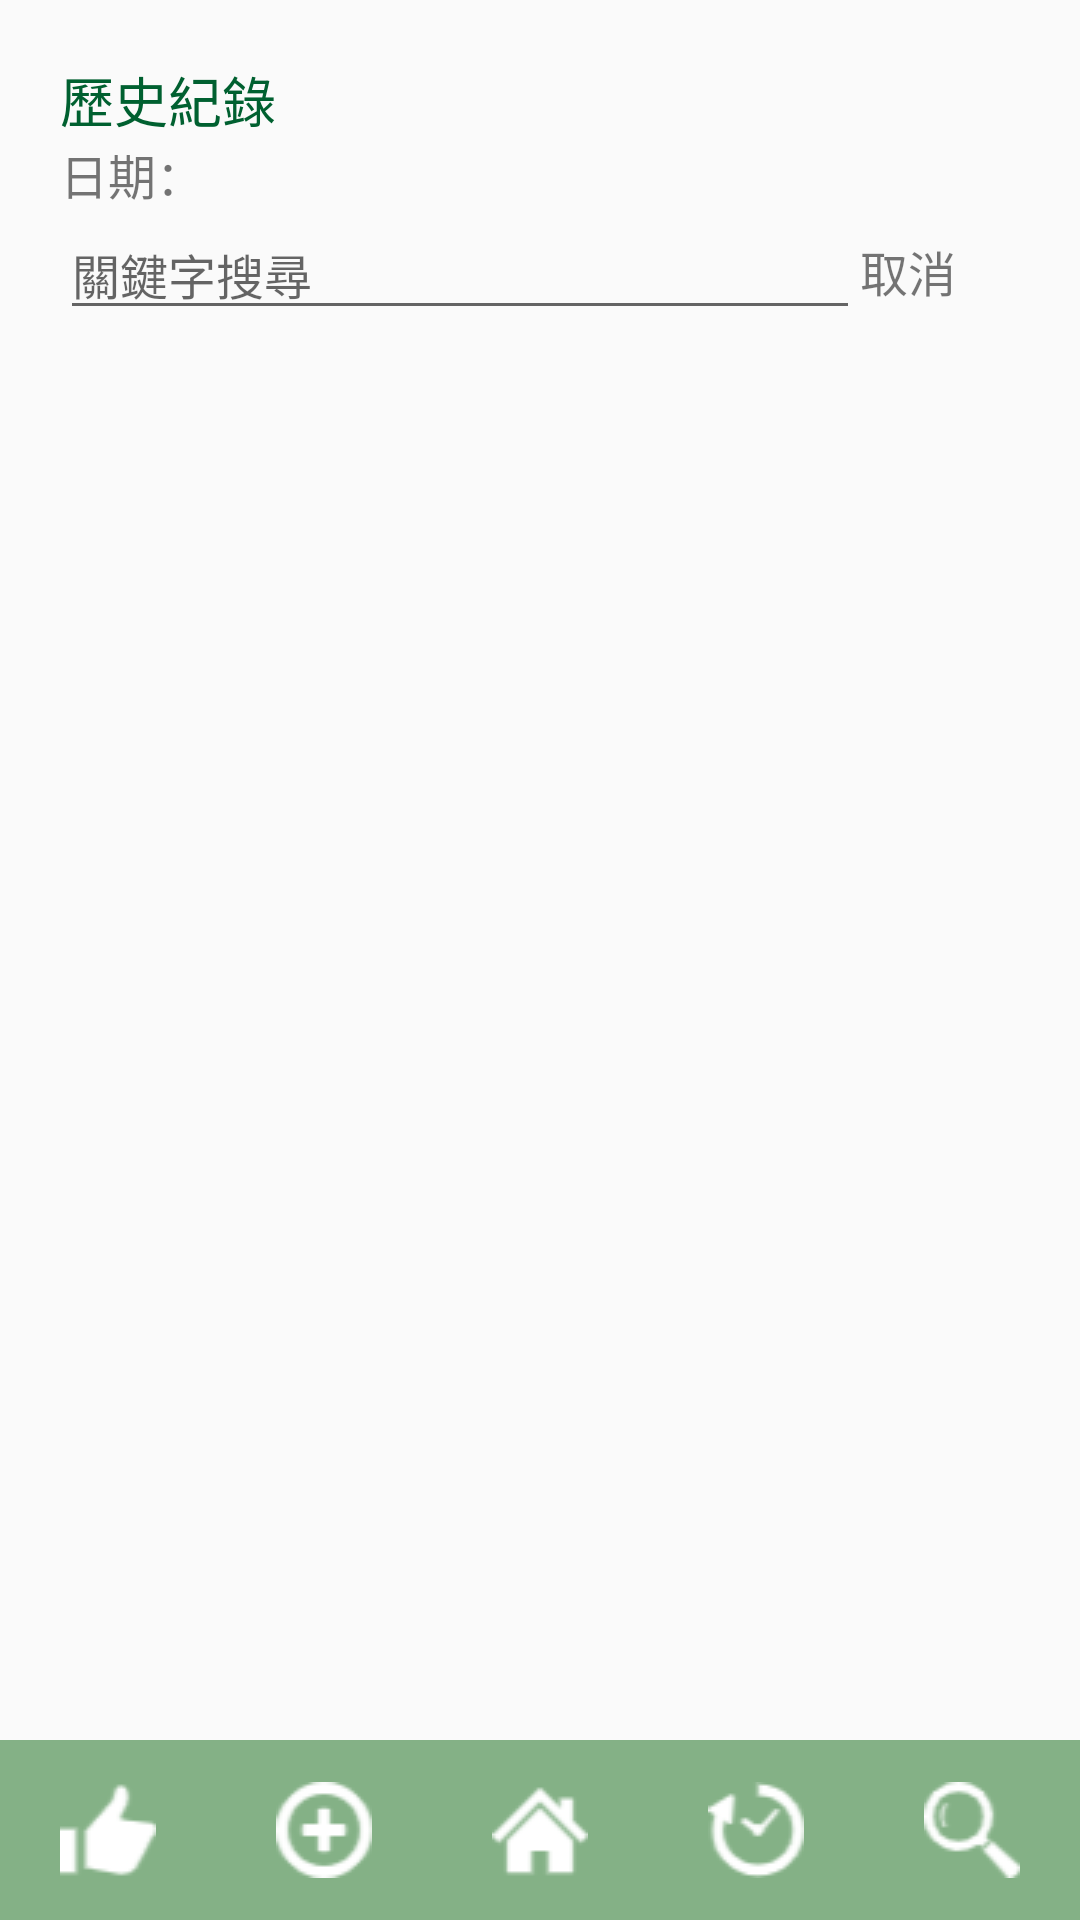

Icons on this 1080 x 1920 Android screen, each with the point to tap as (x,y):
history: (756,1830)
home: (540,1831)
plus: (324,1830)
recom: (108,1830)
search: (972,1830)
